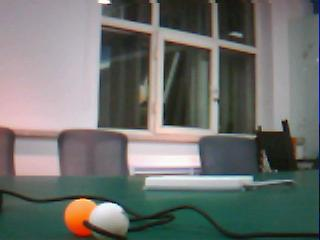oball: (65, 199, 95, 236)
